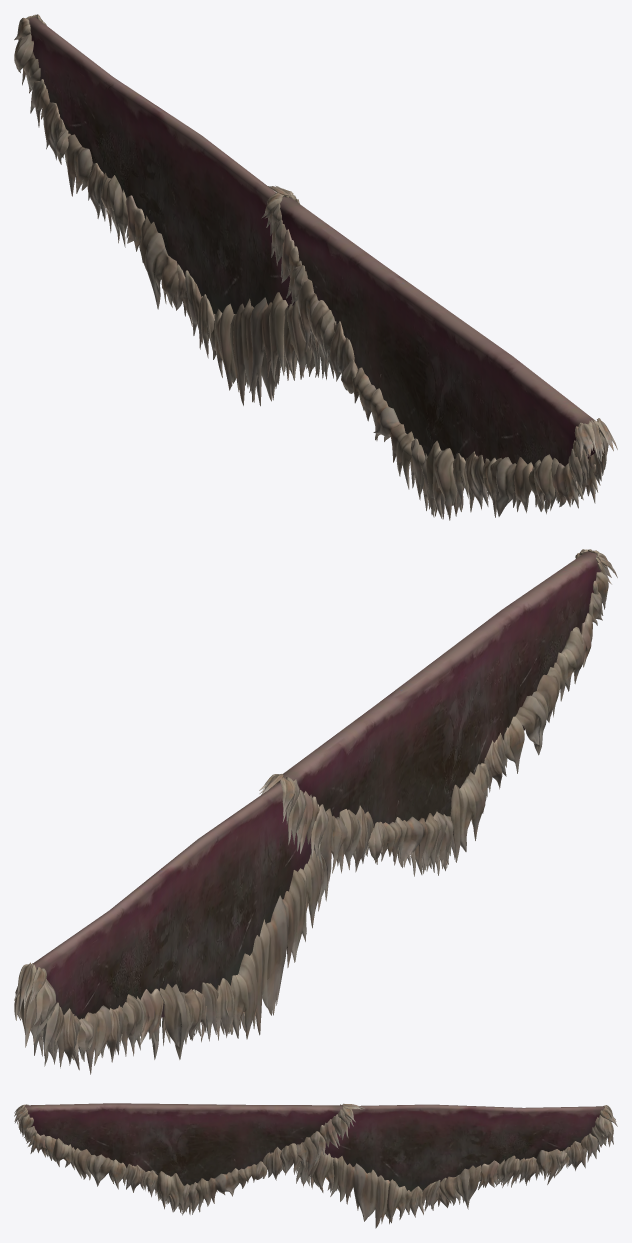
3 views of the same model, one above another, from view 1: azimuth 30°, elevation 25°; view 2: azimuth 150°, elevation 25°; view 3: azimuth 270°, elevation 25° (orthographic). The views are drawn at different scales.
Parts seen in each view (by area): view 1: SM_Garou_Banner_03_LOD0; view 2: SM_Garou_Banner_03_LOD0; view 3: SM_Garou_Banner_03_LOD0.
Part boxes in pixels (x1,y1,x2,y2): SM_Garou_Banner_03_LOD0: (14, 14, 617, 520); SM_Garou_Banner_03_LOD0: (14, 549, 617, 1074); SM_Garou_Banner_03_LOD0: (14, 1103, 617, 1228).
Bounding box in the file's own units: 0.2966 × 1.37 × 6.08.
Materials: 2 (2 with a texture image).
